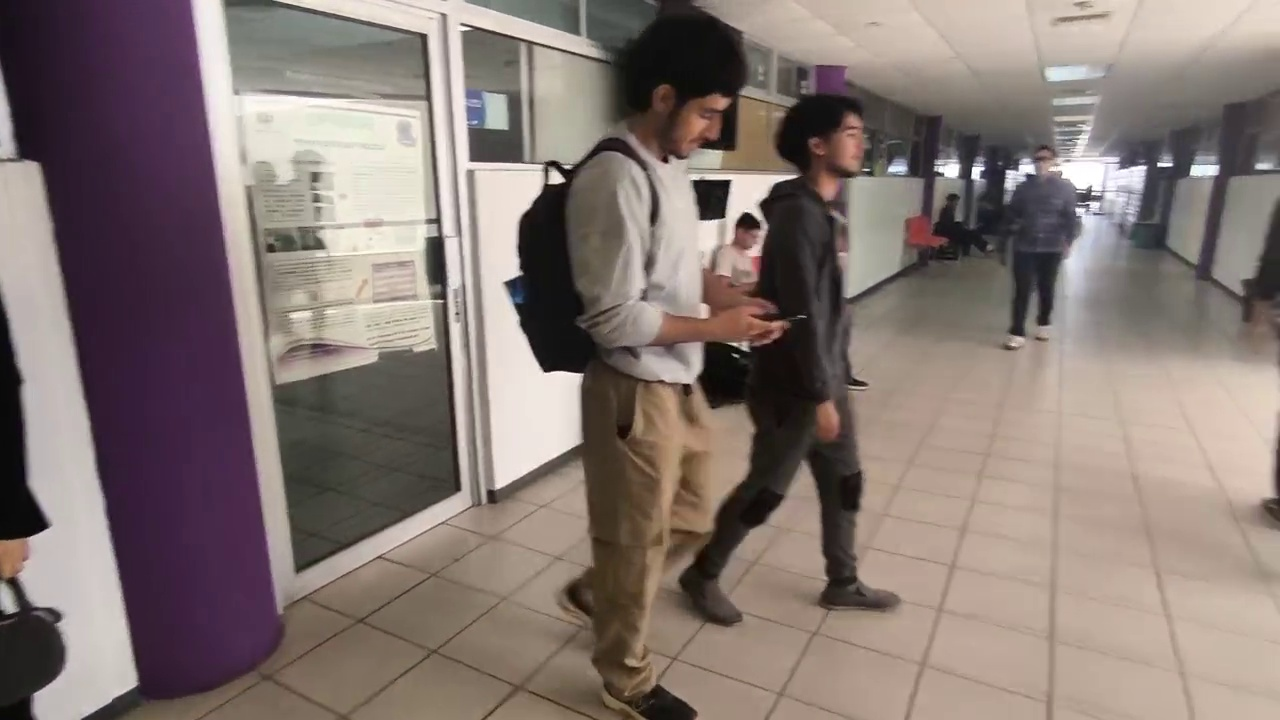mixto2: (750, 301, 814, 332)
